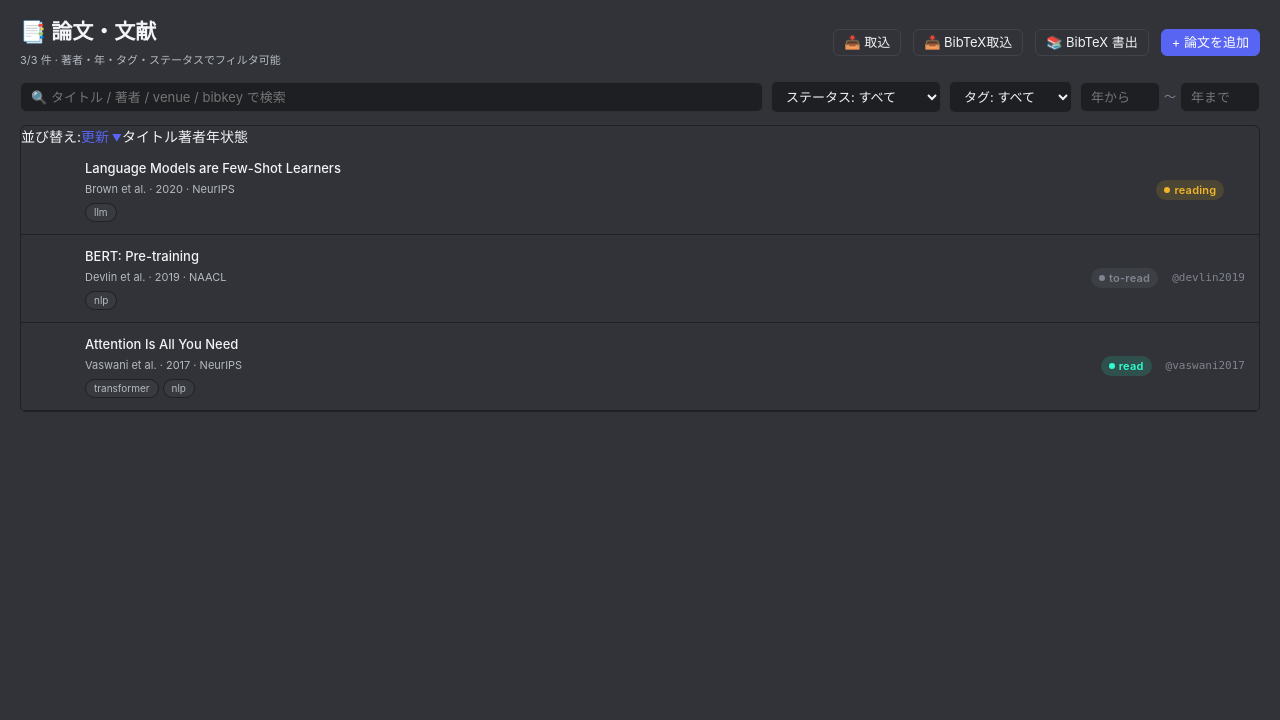
Scenario: PapersView › opens create dialog on add button click
Click the button "+ 論文を追加". click: (1210, 42)
box: [1161,29,1260,56]
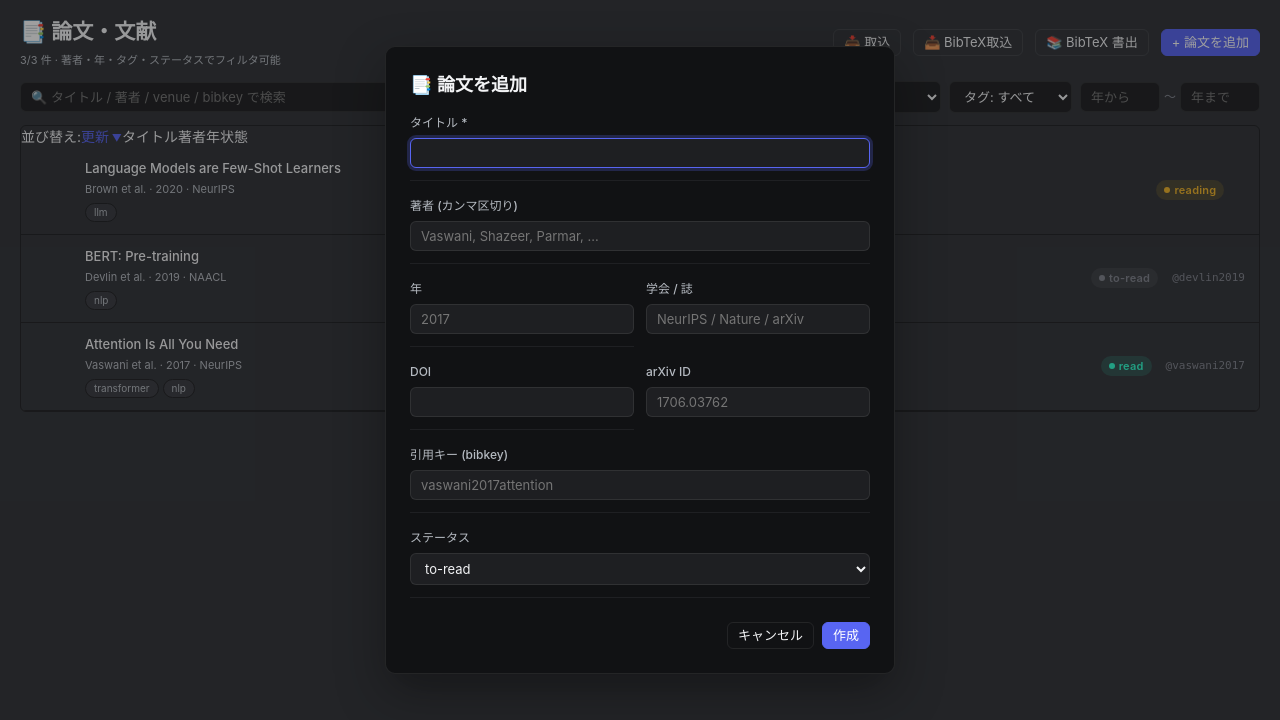
Now the heading "📑 論文を追加" is shown, box [410,74,527,95]
